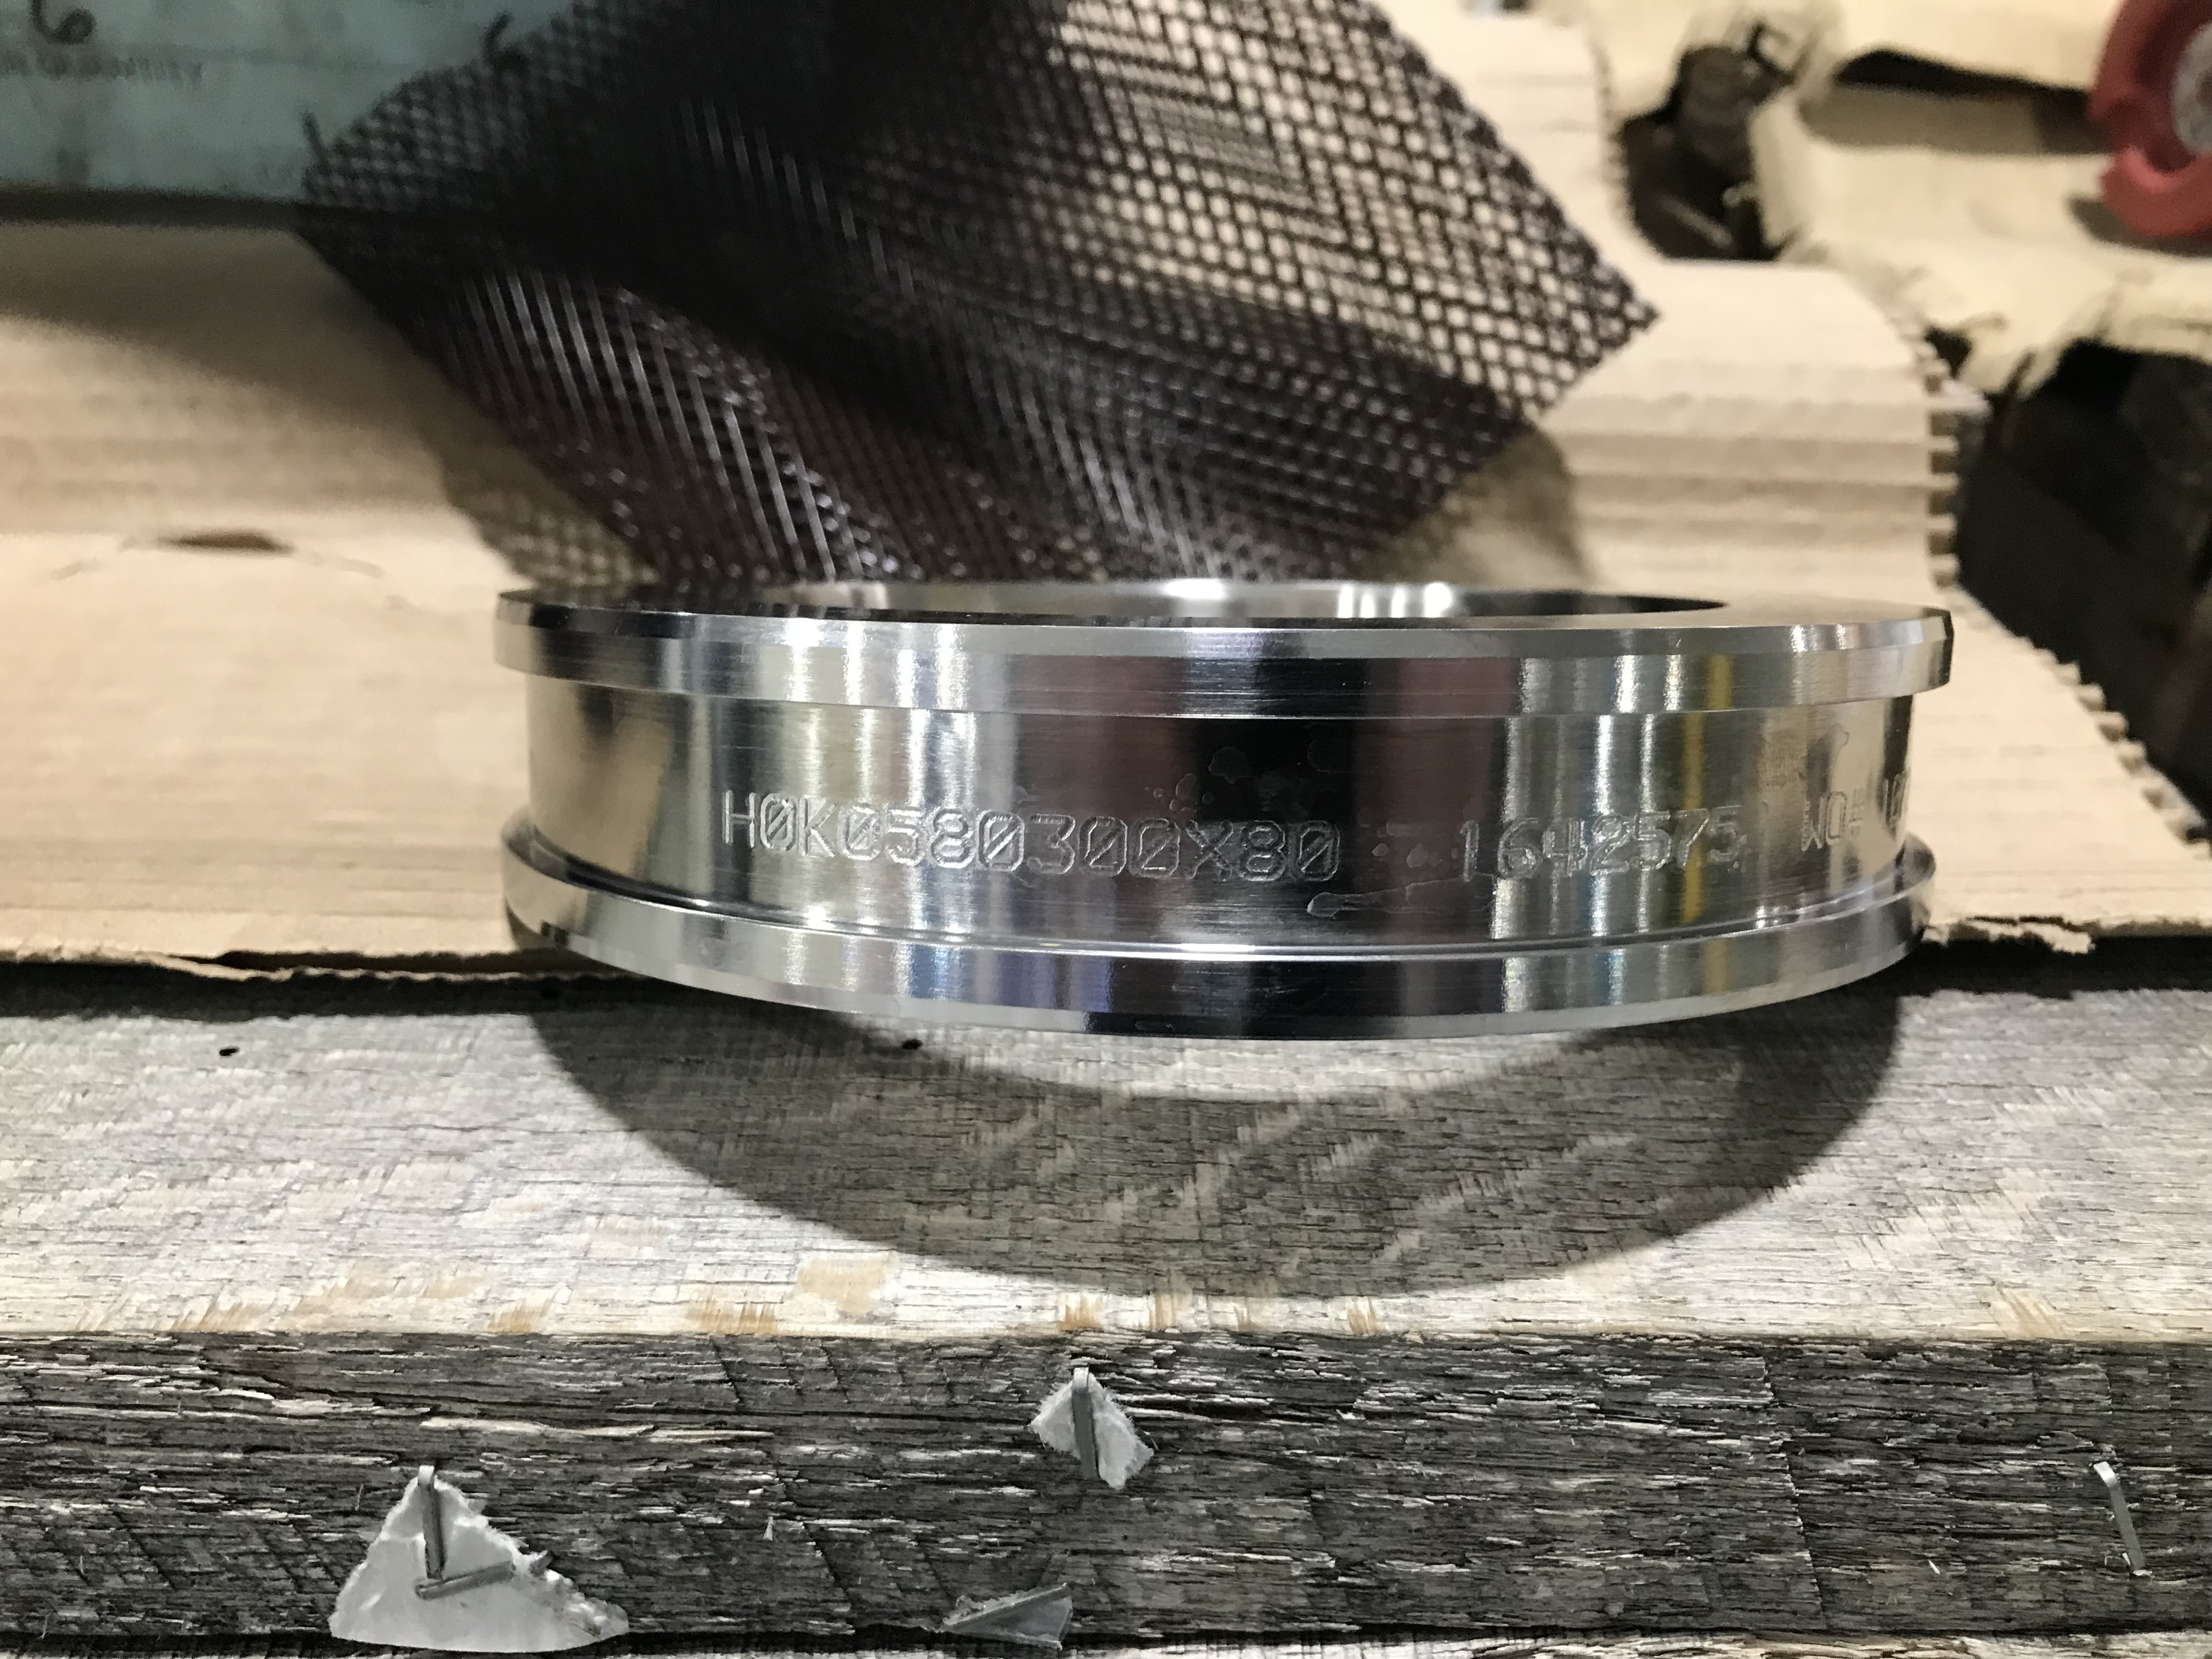character: (975, 802, 1029, 882), (1127, 810, 1183, 885), (1287, 814, 1343, 889), (1235, 814, 1287, 889), (1075, 812, 1130, 882), (1183, 812, 1235, 884), (925, 802, 975, 873), (1028, 809, 1076, 882), (1494, 812, 1543, 885), (1543, 809, 1587, 885), (714, 784, 761, 854), (794, 793, 838, 864), (756, 786, 798, 856), (1588, 812, 1630, 882), (841, 796, 883, 864), (883, 802, 923, 871), (1629, 807, 1672, 870), (1709, 802, 1745, 868), (1453, 816, 1486, 887), (1676, 807, 1709, 873)
